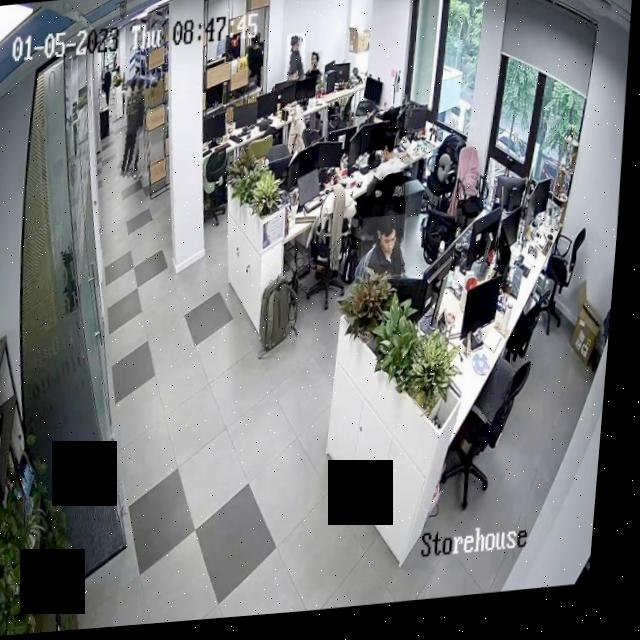person: (368, 133, 416, 213), (121, 80, 158, 180), (363, 221, 413, 289), (285, 38, 308, 87), (307, 56, 325, 84)
